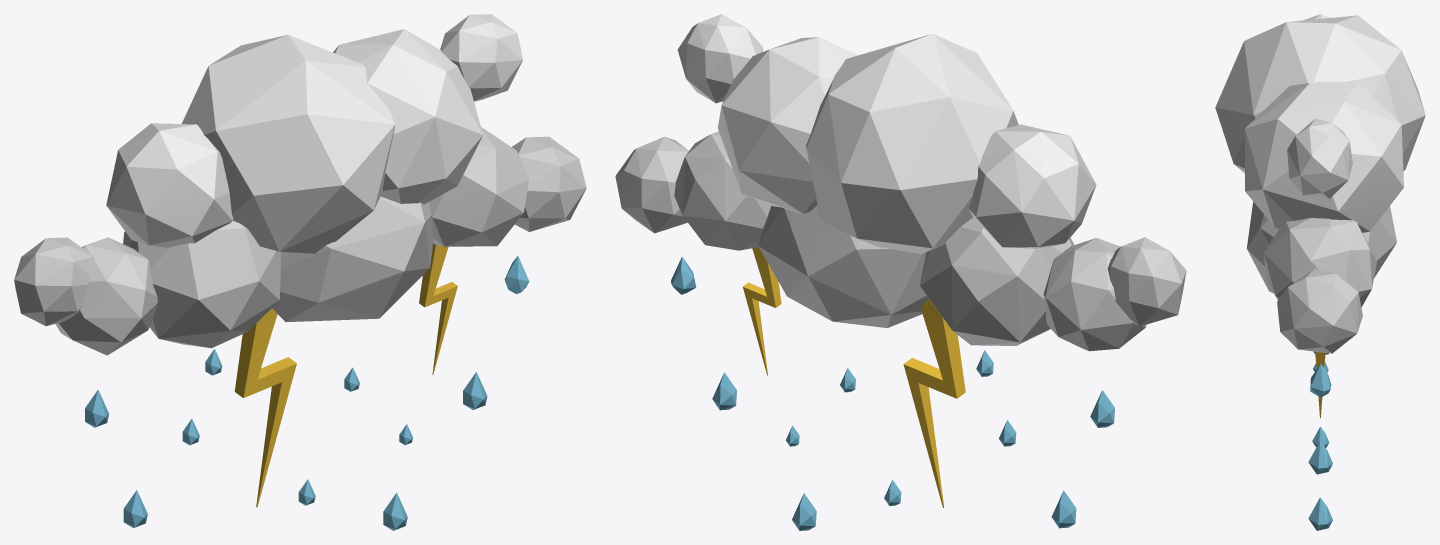
Rendered from stylize_cloud_13.fbx.
The picture shows the model from 3 angles, left to right: view 1: azimuth 30°, elevation 25°; view 2: azimuth 150°, elevation 25°; view 3: azimuth 270°, elevation 25°; orthographic projection. The views are drawn at different scales.
Visible parts, largest first — view 1: cloud_93; view 2: cloud_93; view 3: cloud_93.
Boxes of the visible parts, x1,y1,x2,y2 form: cloud_93: [14, 14, 586, 530]; cloud_93: [615, 14, 1186, 530]; cloud_93: [1215, 14, 1425, 530].
Bounding box in the file's own units: 575 × 502 × 207.
